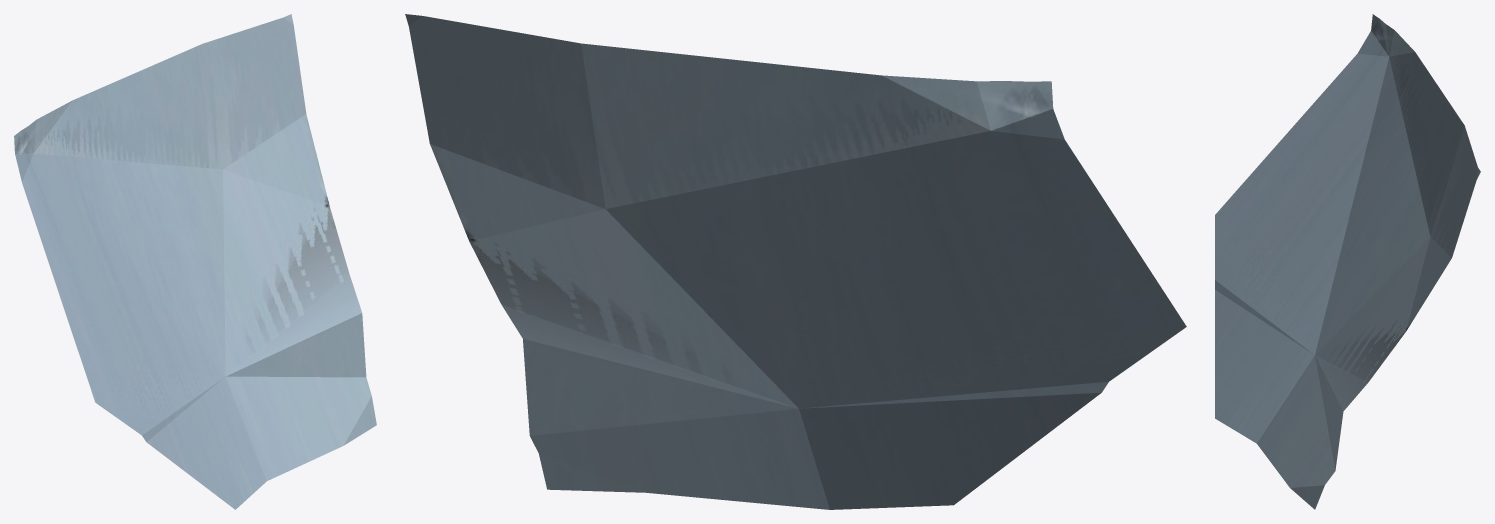
The picture shows the model from 3 angles, left to right: view 1: azimuth 30°, elevation 25°; view 2: azimuth 150°, elevation 25°; view 3: azimuth 270°, elevation 25°; orthographic projection. The views are drawn at different scales.
Bounding box in the file's own units: 0.8374 × 0.8374 × 0.5964.
3 materials, 3 textured.
